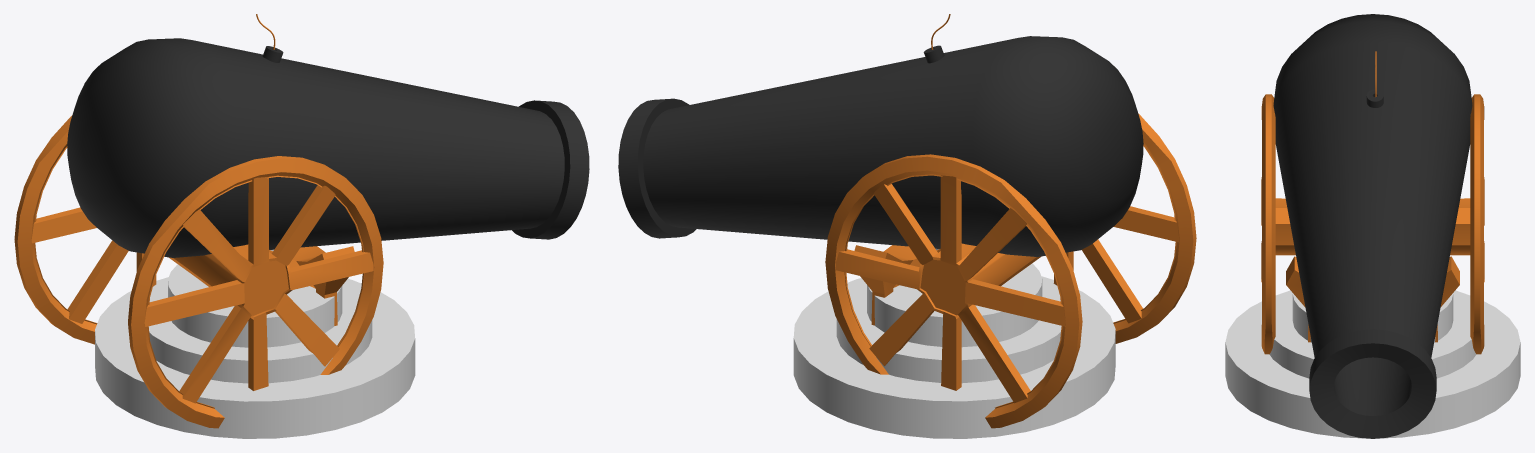
The model's file is CanonWar.fbx.
3 views of the same model, side by side, from view 1: azimuth 30°, elevation 25°; view 2: azimuth 150°, elevation 25°; view 3: azimuth 270°, elevation 25° (orthographic). The views are drawn at different scales.
Visible parts, largest first — view 1: Circle.002, Circle; view 2: Circle.002, Circle; view 3: Circle.002, Circle.
Boxes of the visible parts, left/top/right/bottom form: Circle.002: left=14, top=14, right=589, bottom=428; Circle: left=95, top=249, right=415, bottom=438; Circle.002: left=618, top=14, right=1196, bottom=428; Circle: left=793, top=248, right=1115, bottom=438; Circle.002: left=1261, top=14, right=1484, bottom=438; Circle: left=1225, top=290, right=1520, bottom=438.
Size of the model in its own units: 469 by 324 by 263.
